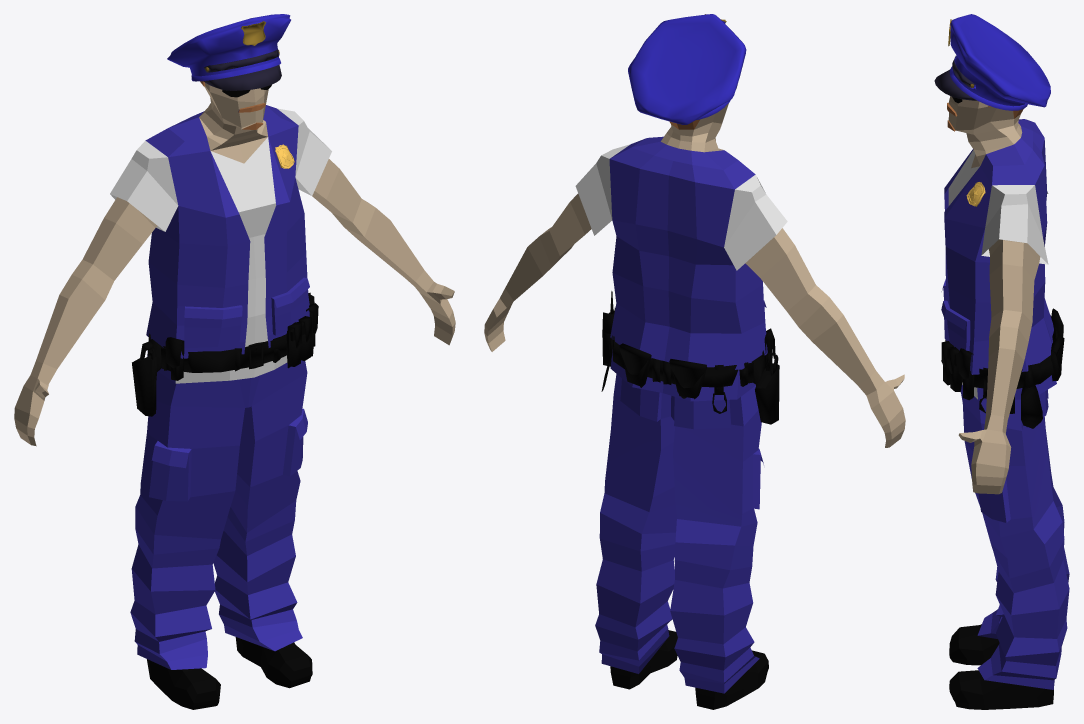
The model's file is police.fbx.
3 renders of one model, left to right at view 1: azimuth 30°, elevation 25°; view 2: azimuth 150°, elevation 25°; view 3: azimuth 270°, elevation 25°, orthographic. The views are drawn at different scales.
Parts seen in each view (by area): view 1: male_02_a, Police_Hat, 1_sbbelt; view 2: male_02_a, Police_Hat, 1_sbbelt; view 3: male_02_a, Police_Hat, 1_sbbelt.
Part boxes in pixels (x1,y1,x2,y2): male_02_a: (14,81,455,709); Police_Hat: (167,14,290,90); 1_sbbelt: (132,292,318,416); male_02_a: (484,103,905,709); Police_Hat: (628,14,746,124); 1_sbbelt: (601,291,779,424); male_02_a: (941,96,1069,709); Police_Hat: (934,14,1050,110); 1_sbbelt: (941,308,1064,428).
Bounding box in the file's own units: 127 × 192 × 35.8.
